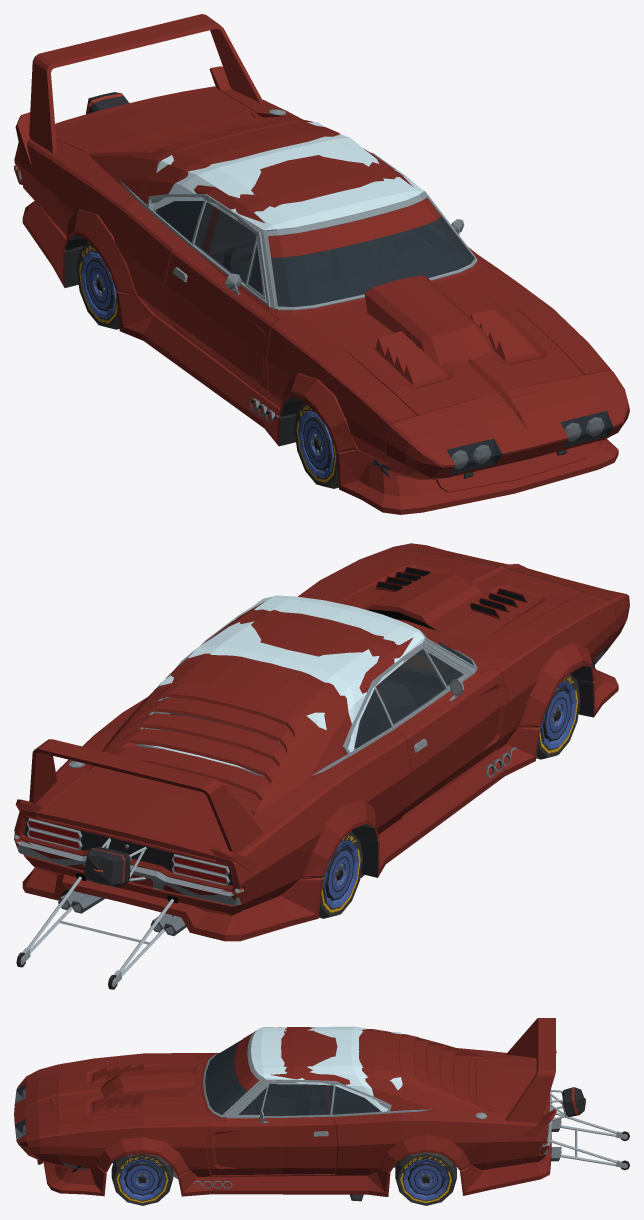
The model's file is redline_street_muscle.glb.
3 renders of one model, top to bottom at view 1: azimuth 30°, elevation 25°; view 2: azimuth 150°, elevation 25°; view 3: azimuth 270°, elevation 25°, orthographic. The views are drawn at different scales.
Visible parts, largest first — view 1: Body, V_Roof_01, V_Front_Bumper_03, V_Roof_02, V_Bonnet_02, Door_R, V_Roof_03, Trunk, V_Front_Bumper_02, V_Spoiler_03, V_Side_Skirts_02, V_Bonnet_01 (+11 smaller); view 2: Body, V_Roof_01, V_Louvers_01, Door_R, V_Roof_02, Trunk, V_Bonnet_02, V_Rear_Bumper_02, V_Side_Skirts_02, V_Spoiler_03, V_Wheelie_Bars_01, V_Bonnet_01 (+13 smaller); view 3: Body, Door_L, V_Roof_01, V_Roof_02, V_Bonnet_02, V_Side_Skirts_02, V_Front_Bumper_03, V_Louvers_01, V_Spoiler_03, Trunk, V_Roof_03, V_Rear_Bumper_02 (+15 smaller).
Part boxes in pixels (bbox=[...]): Body: bbox=[14, 86, 611, 466]; V_Roof_01: bbox=[89, 112, 476, 310]; V_Front_Bumper_03: bbox=[370, 370, 629, 492]; V_Roof_02: bbox=[119, 122, 477, 310]; V_Bonnet_02: bbox=[326, 275, 578, 412]; Door_R: bbox=[165, 202, 277, 400]; V_Roof_03: bbox=[150, 201, 473, 306]; Trunk: bbox=[55, 86, 254, 152]; V_Front_Bumper_02: bbox=[336, 370, 618, 514]; V_Spoiler_03: bbox=[29, 14, 263, 153]; V_Side_Skirts_02: bbox=[116, 291, 296, 446]; V_Bonnet_01: bbox=[314, 282, 584, 415]; Body: bbox=[14, 547, 615, 915]; V_Roof_01: bbox=[89, 601, 476, 811]; V_Louvers_01: bbox=[112, 682, 300, 800]; Door_R: bbox=[376, 648, 508, 815]; V_Roof_02: bbox=[136, 595, 477, 776]; Trunk: bbox=[37, 767, 257, 860]; V_Bonnet_02: bbox=[333, 553, 578, 644]; V_Rear_Bumper_02: bbox=[14, 834, 322, 941]; V_Side_Skirts_02: bbox=[357, 727, 539, 877]; V_Spoiler_03: bbox=[29, 739, 263, 853]; V_Wheelie_Bars_01: bbox=[16, 838, 178, 989]; V_Bonnet_01: bbox=[327, 551, 584, 650]; Body: bbox=[59, 1048, 549, 1176]; Door_L: bbox=[207, 1084, 337, 1175]; V_Roof_01: bbox=[203, 1027, 487, 1117]; V_Roof_02: bbox=[204, 1026, 431, 1117]; V_Bonnet_02: bbox=[58, 1061, 196, 1124]; V_Side_Skirts_02: bbox=[178, 1168, 390, 1196]; V_Front_Bumper_03: bbox=[14, 1064, 88, 1170]; V_Louvers_01: bbox=[399, 1034, 474, 1103]; V_Spoiler_03: bbox=[506, 1018, 555, 1122]; Trunk: bbox=[475, 1057, 549, 1115]; V_Roof_03: bbox=[205, 1041, 387, 1114]; V_Rear_Bumper_02: bbox=[460, 1124, 551, 1195].
Size of the model in its own units: 1.76 by 1.26 by 5.38.
4 materials, 2 textured.
